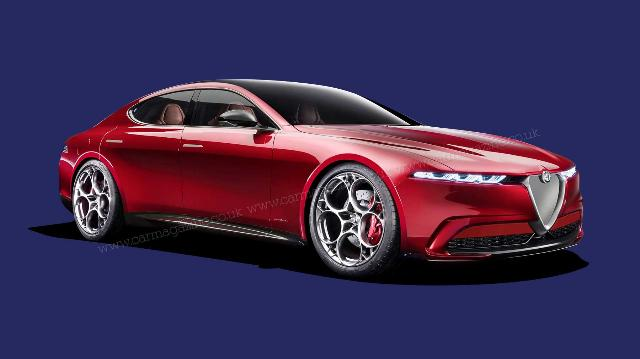alpha-romeo: (58, 78, 584, 280)
